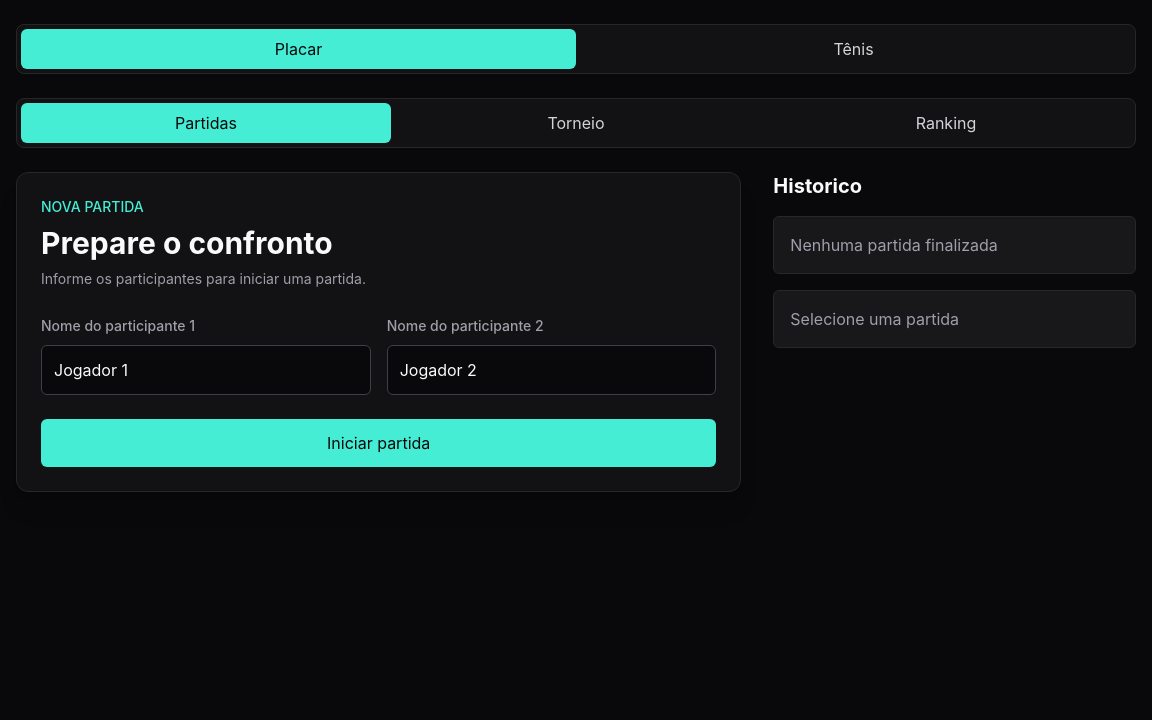
Scenario: App phase 3 persistence and history › remembers the selected tennis section when switching areas
Click the button "Ranking".
click(946, 123)  # box [761,103,1131,143]
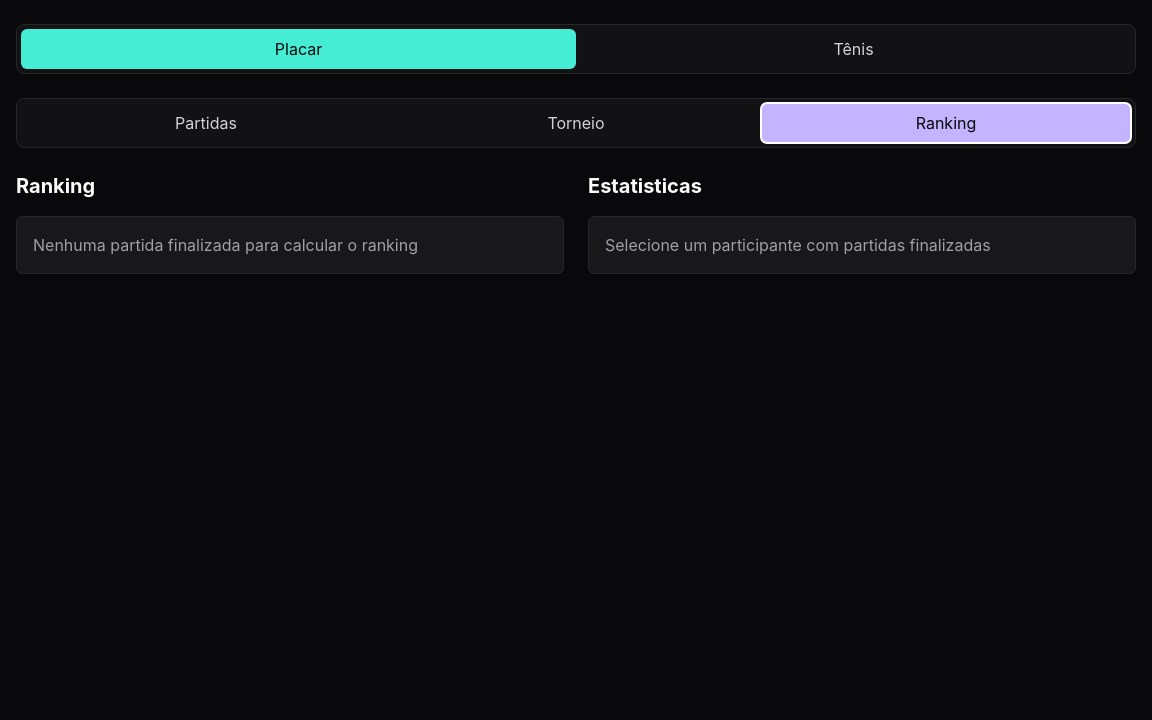
Click the button "Tênis".
click(854, 49)  # box [576,29,1131,69]
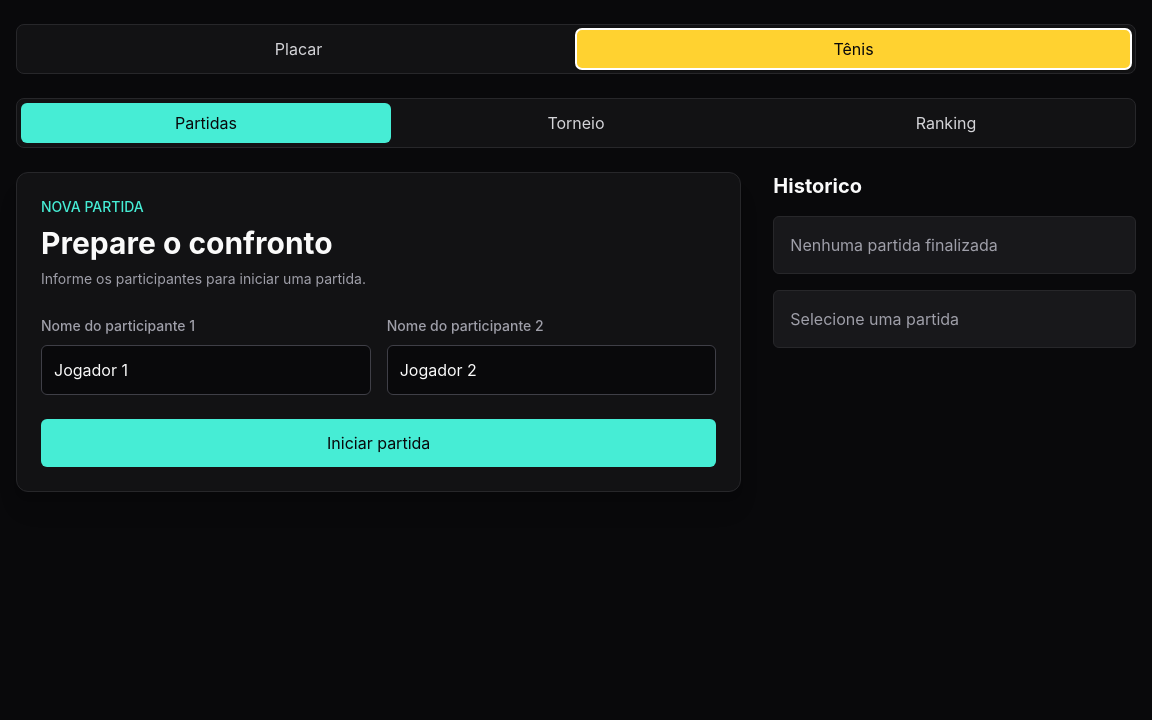
Click the button "Torneio".
click(576, 123)  # box [391,103,761,143]
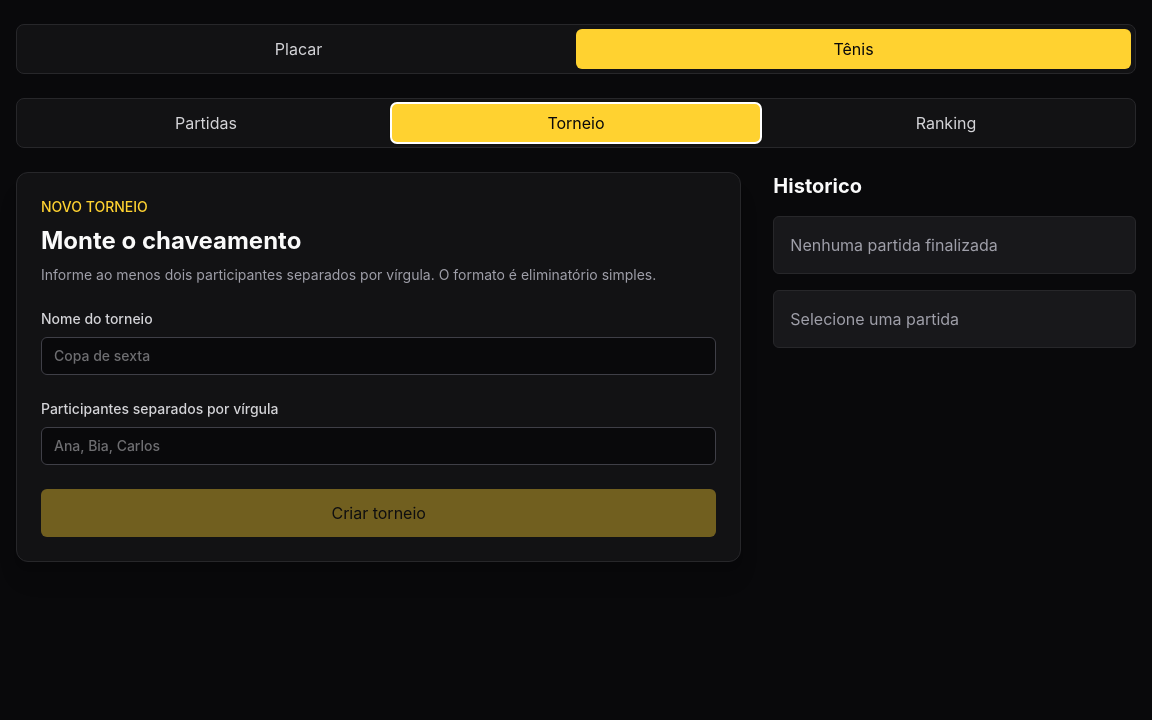
Click the button "Placar".
click(298, 49)  # box [21,29,576,69]
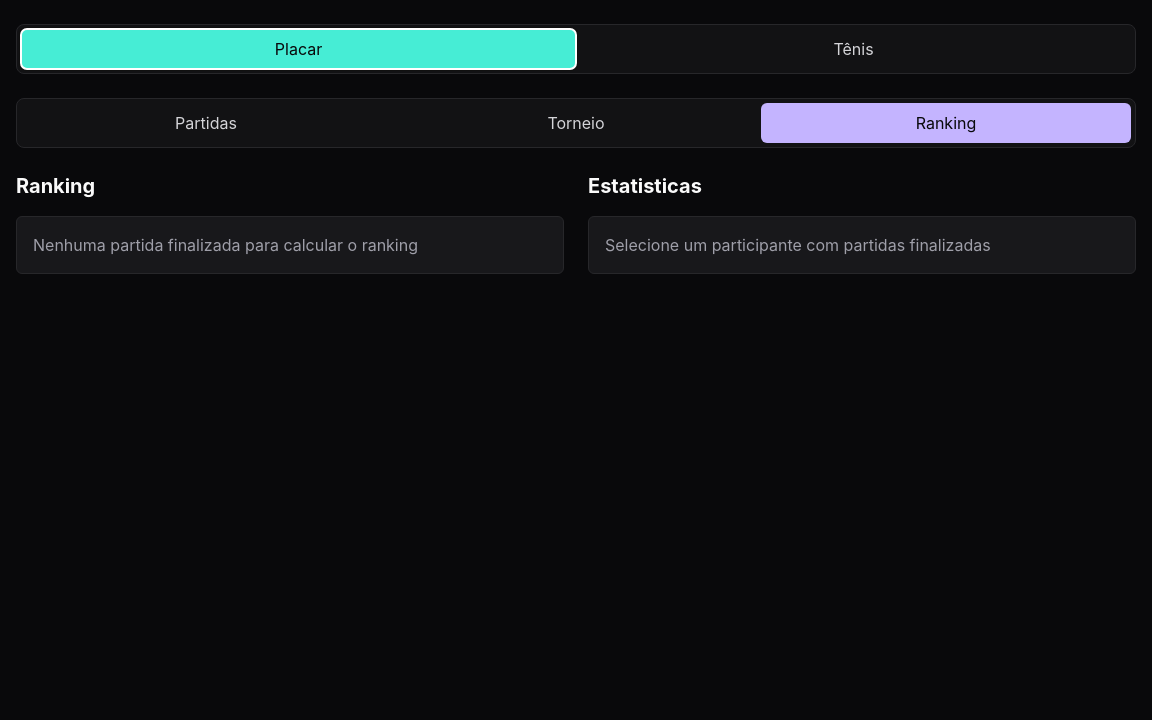
Now the button "Ranking" is marked as current, box [761,103,1131,143]
Click the button "Tênis".
click(854, 49)  # box [576,29,1131,69]
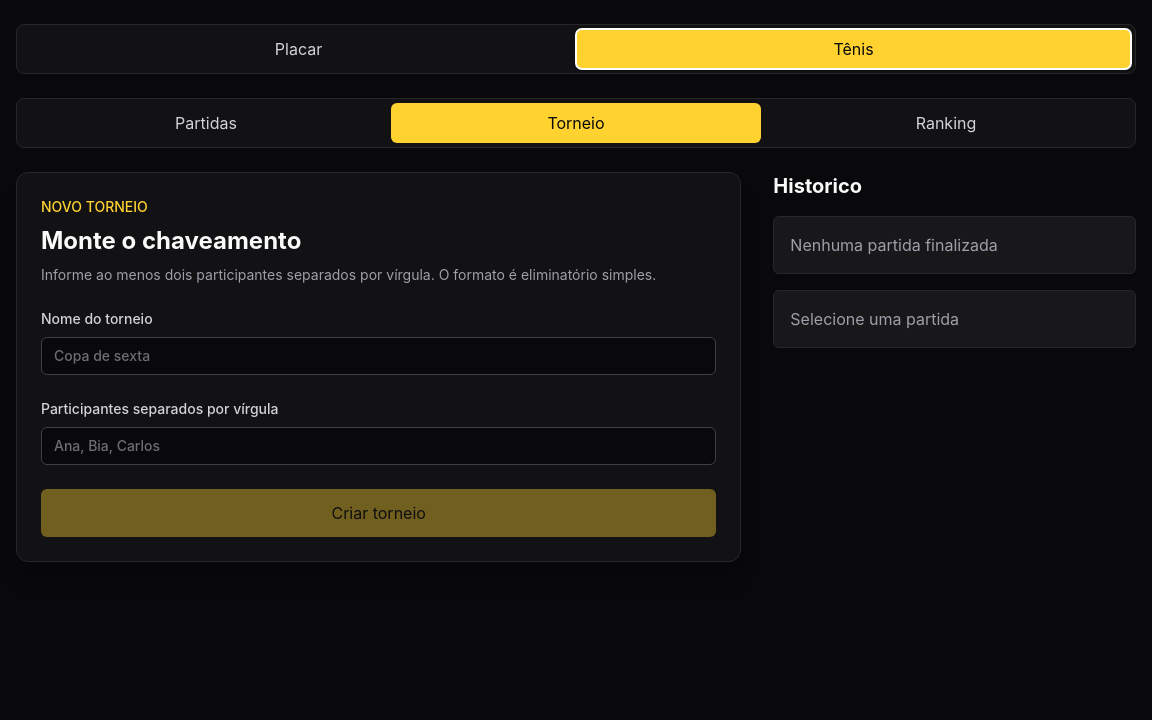
Now the field labelled "Participantes separados por vírgula" is shown, box [41,427,716,465]
